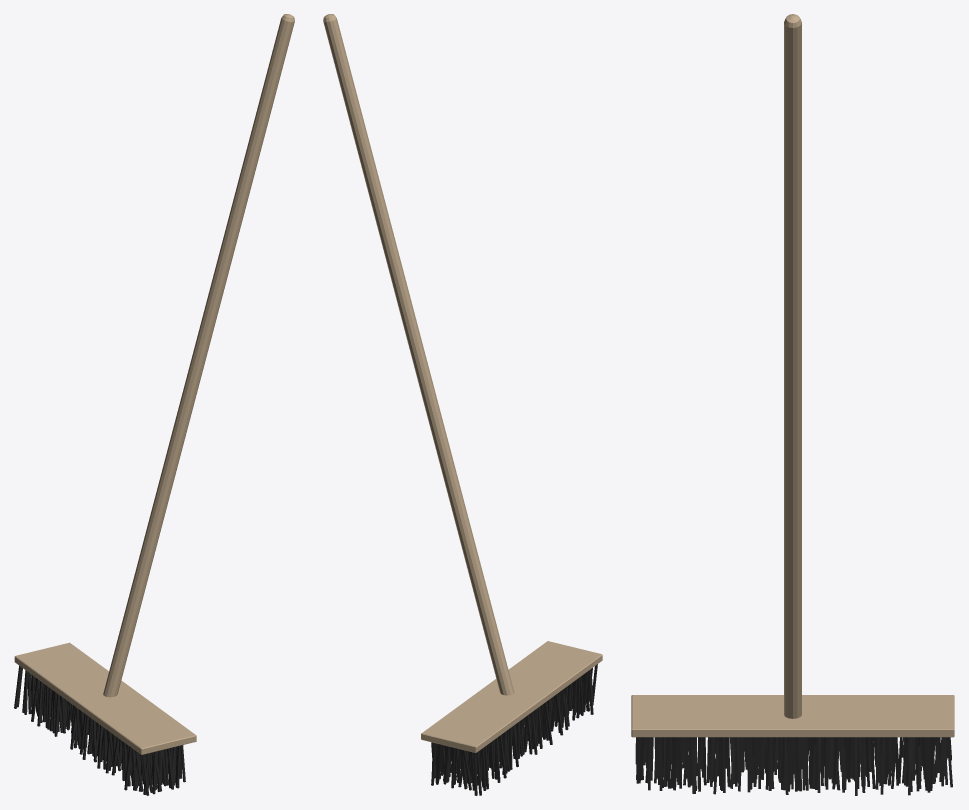
Rendered from Broom.glb.
The picture shows the model from 3 angles, left to right: view 1: azimuth 30°, elevation 25°; view 2: azimuth 150°, elevation 25°; view 3: azimuth 270°, elevation 25°; orthographic projection. The views are drawn at different scales.
Visible parts, largest first — view 1: Broom; view 2: Broom; view 3: Broom.
Part boxes in pixels (x1,y1,x2,y2): Broom: [14, 14, 294, 795]; Broom: [323, 14, 602, 795]; Broom: [631, 14, 954, 795].
Size of the model in its own units: 122 by 365 by 122.
Materials: 1 (1 with a texture image).
